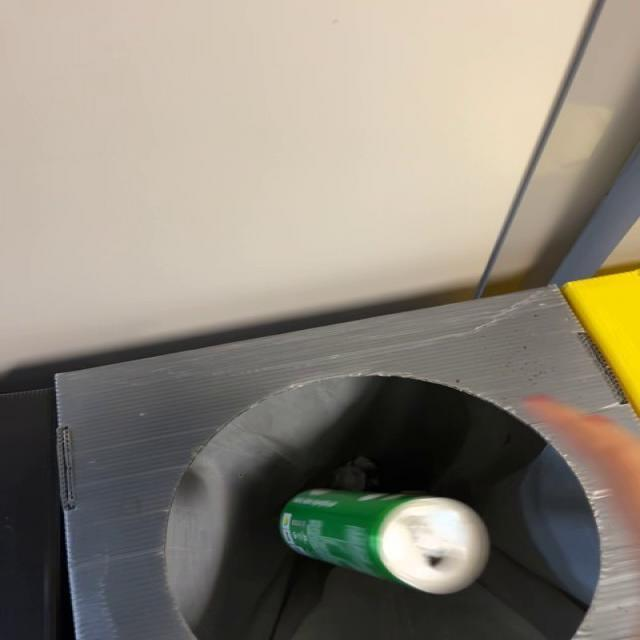Bin: (57, 287, 637, 640)
Metal: (279, 489, 488, 596)
